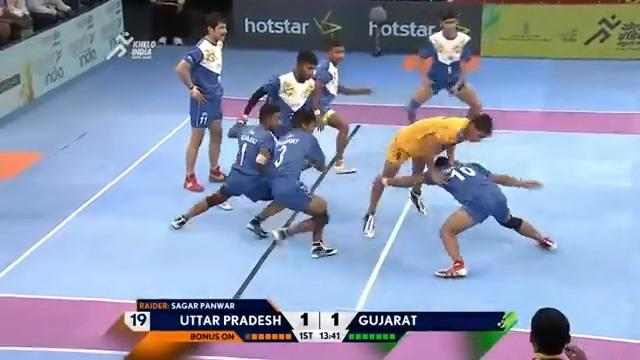Player: (418, 154, 557, 278), (170, 102, 285, 237), (246, 107, 338, 258), (174, 11, 230, 194), (405, 15, 482, 124), (311, 40, 373, 173), (238, 49, 326, 136)
Raider: (361, 111, 494, 238)
